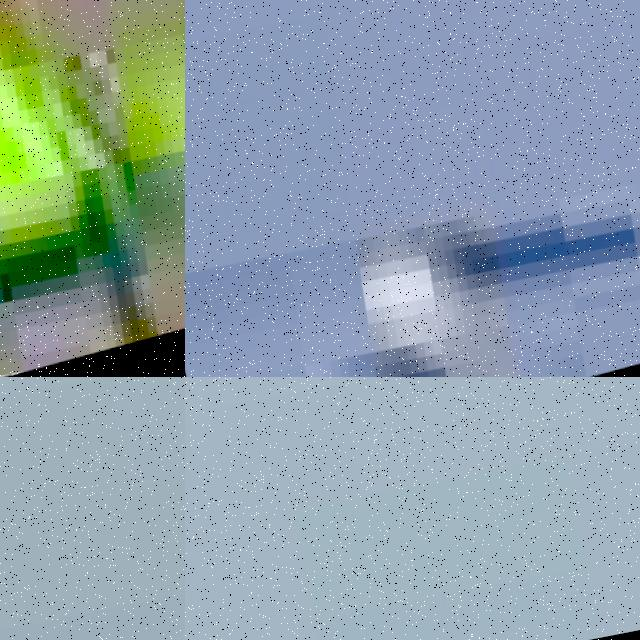drone: (185, 0, 640, 377), (0, 0, 185, 377)
